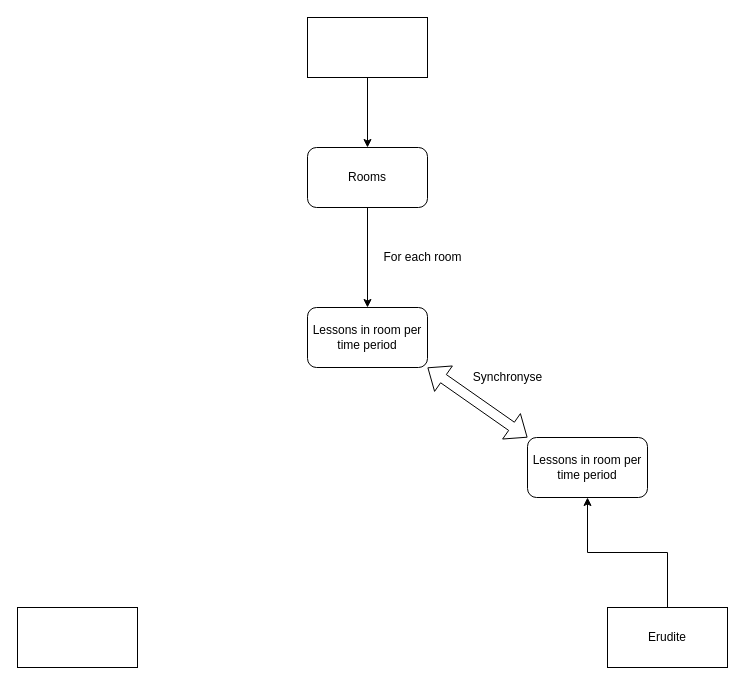
This 745x685 diagram has some shape labels left out. Each missing label, with the centre of its shape:
Goole Calendar: pixel 77 637
RUZ: pixel 367 47
